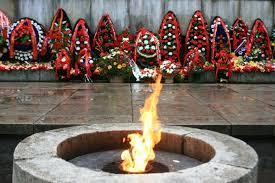fire: (112, 72, 173, 176)
